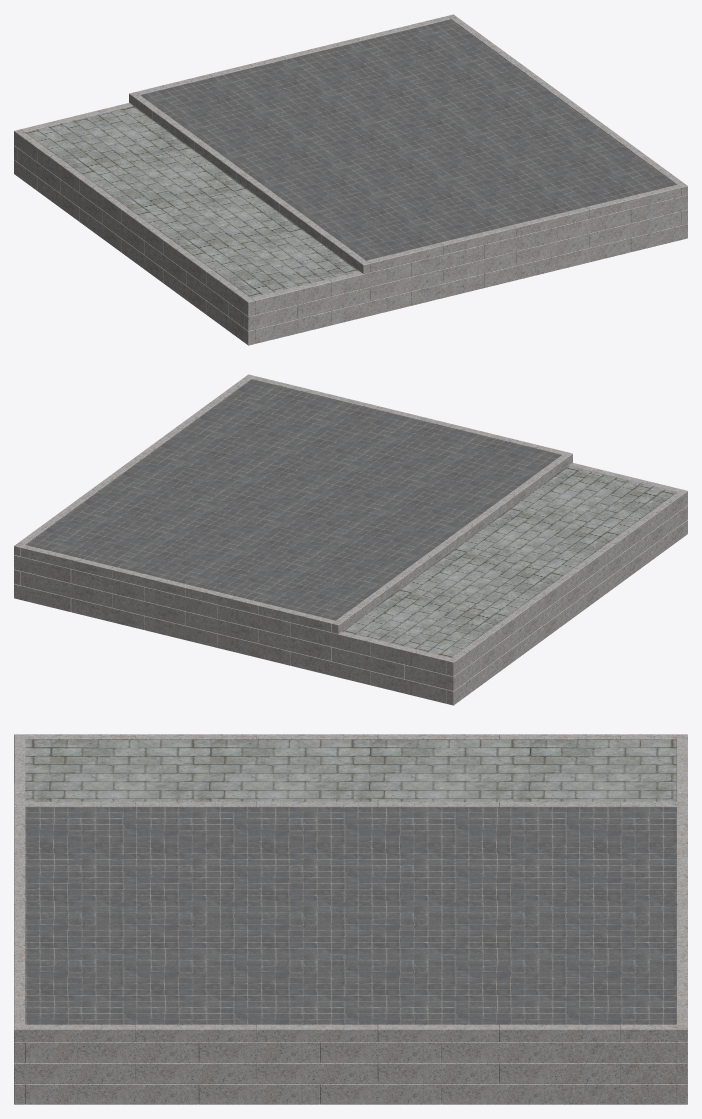
The model's file is SM_Gidan02C.fbx.
The picture shows the model from 3 angles, top to bottom: view 1: azimuth 30°, elevation 25°; view 2: azimuth 150°, elevation 25°; view 3: azimuth 270°, elevation 25°; orthographic projection. The views are drawn at different scales.
Parts seen in each view (by area): view 1: SM_Gidan02C; view 2: SM_Gidan02C; view 3: SM_Gidan02C.
Part boxes in pixels (<box>): SM_Gidan02C: <box>14,14,687,345</box>; SM_Gidan02C: <box>14,374,687,705</box>; SM_Gidan02C: <box>14,734,687,1104</box>.
Bounding box in the file's own units: 1739 × 1606 × 199.
3 materials, 3 textured.
